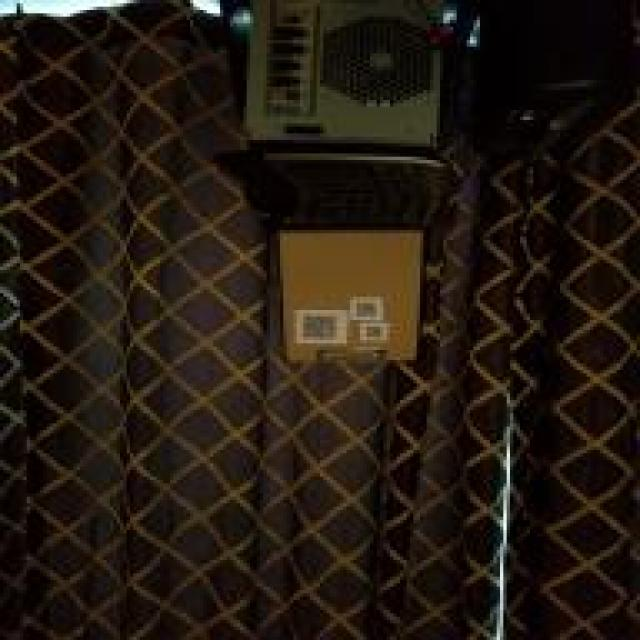QR_CODE: (293, 315, 342, 347), (354, 295, 388, 320), (363, 325, 390, 343)
